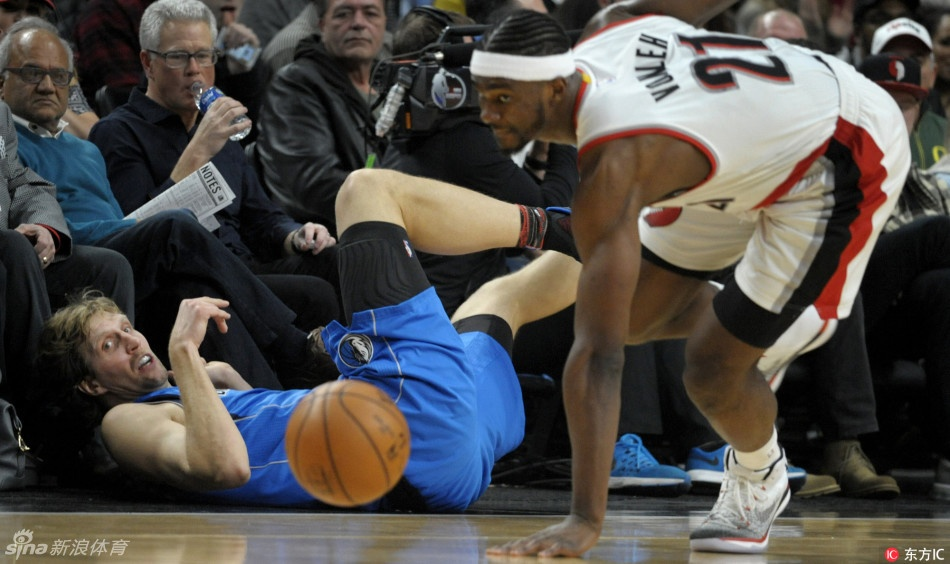falling: (39, 145, 592, 532)
